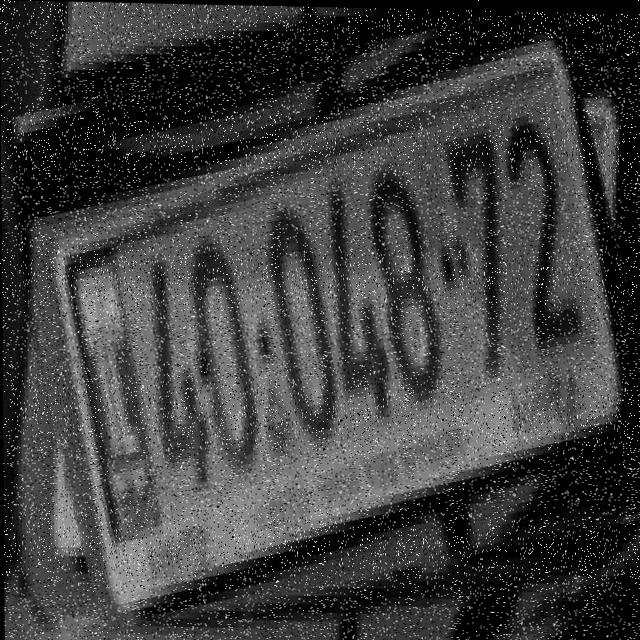LicensePlate: (5, 20, 640, 610)
